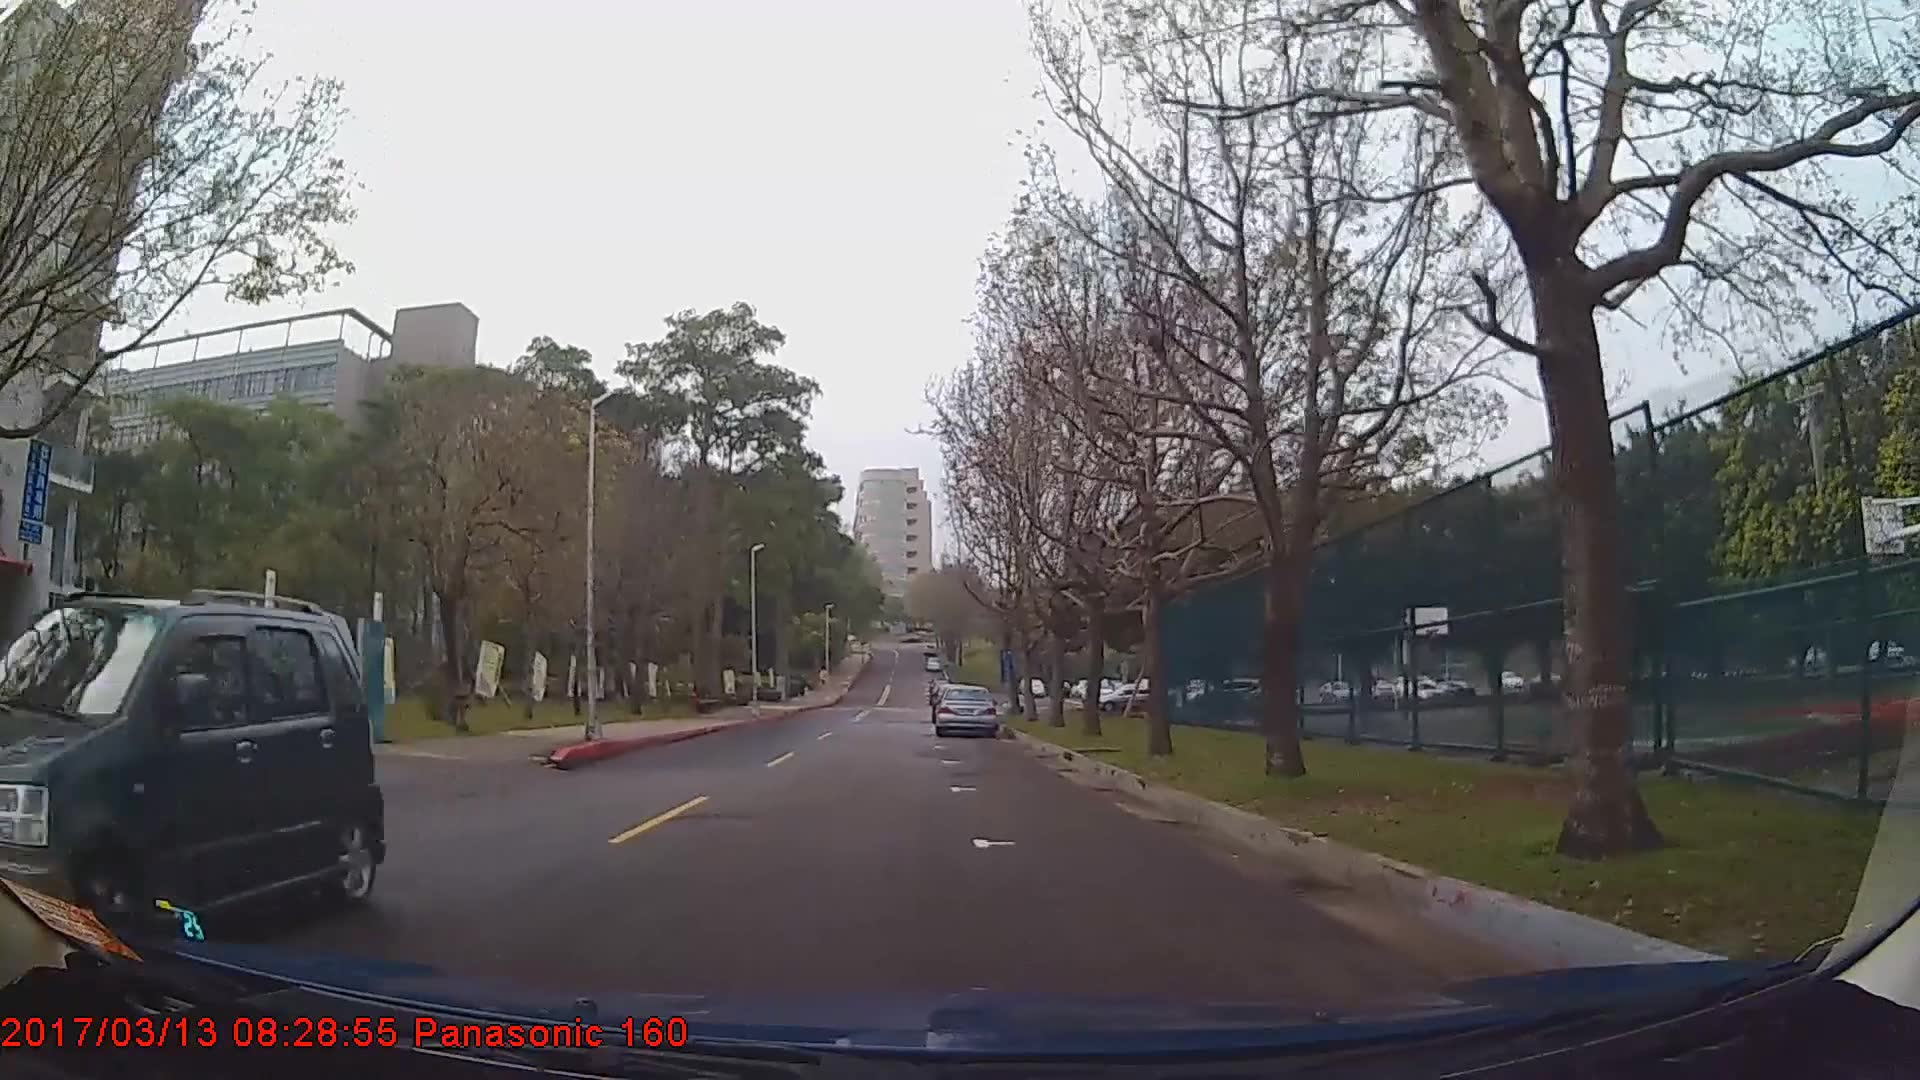vehicle: (0, 593, 380, 967), (934, 684, 1000, 741)
